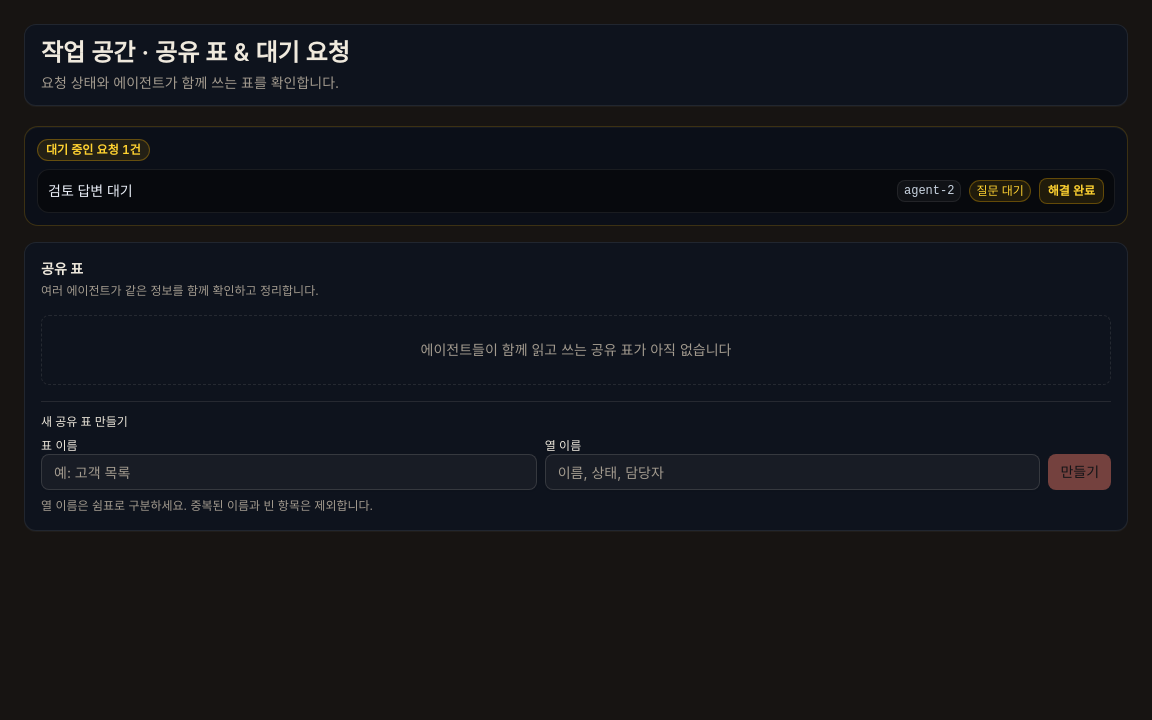
WorkspacePrimitives › turns a rejected resolve into an accessible alert
The image size is (1152, 720).
Click the button "해결 완료" at {"x": 1071, "y": 191}, box top-left (1039, 178), bottom-right (1104, 204)
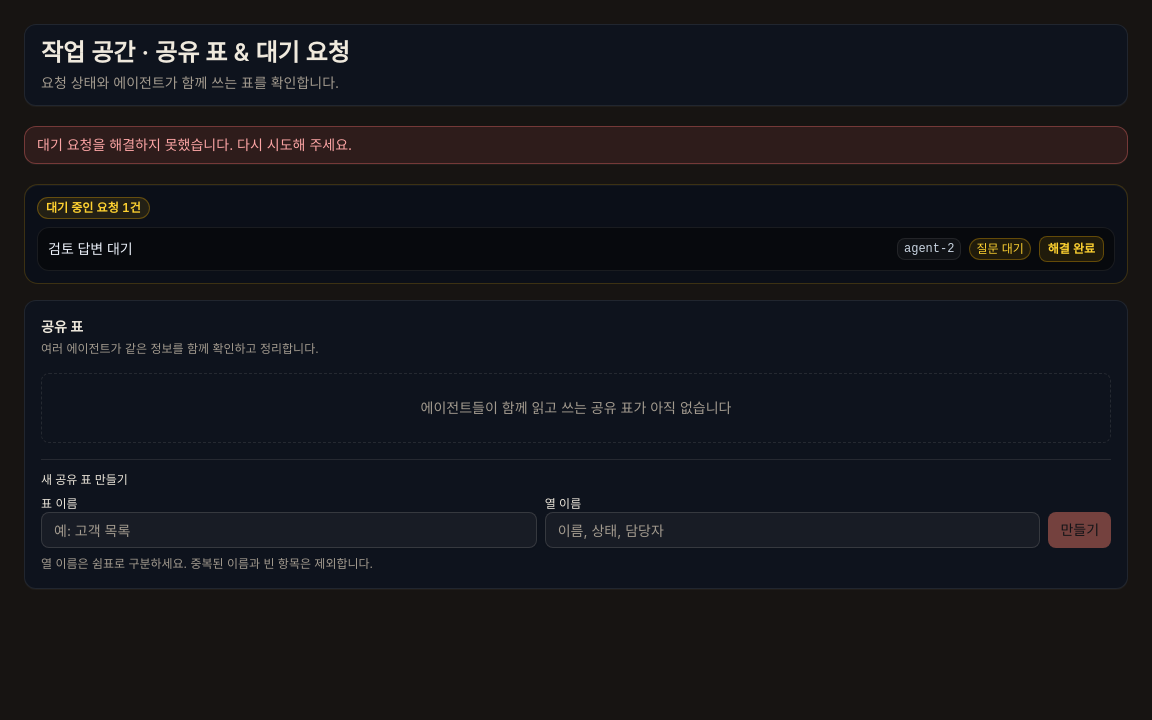
Expected: the text "대기 요청을 해결하지 못했습니다." is shown, top-left (37, 136), bottom-right (352, 153)
Expected: the message "대기 요청을 해결하지 못했습니다. 다시 시도해 주세요." is shown, top-left (24, 126), bottom-right (1128, 164)
